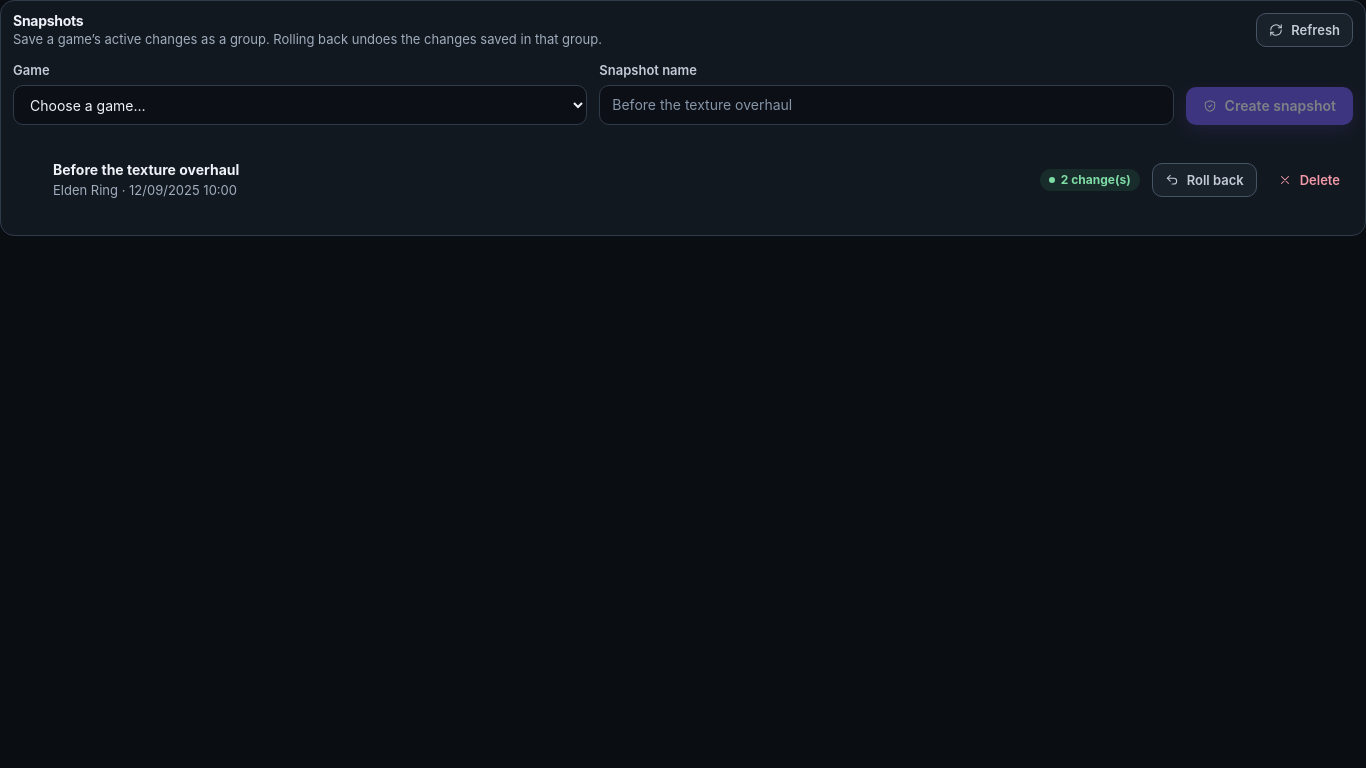
Scenario: SnapshotPanel — rolling back › rolls back and asks for the transaction list to be reloaded only once confirmed
Click the button "Roll back" at (1204, 180), box top-left (1152, 163), bottom-right (1257, 197)
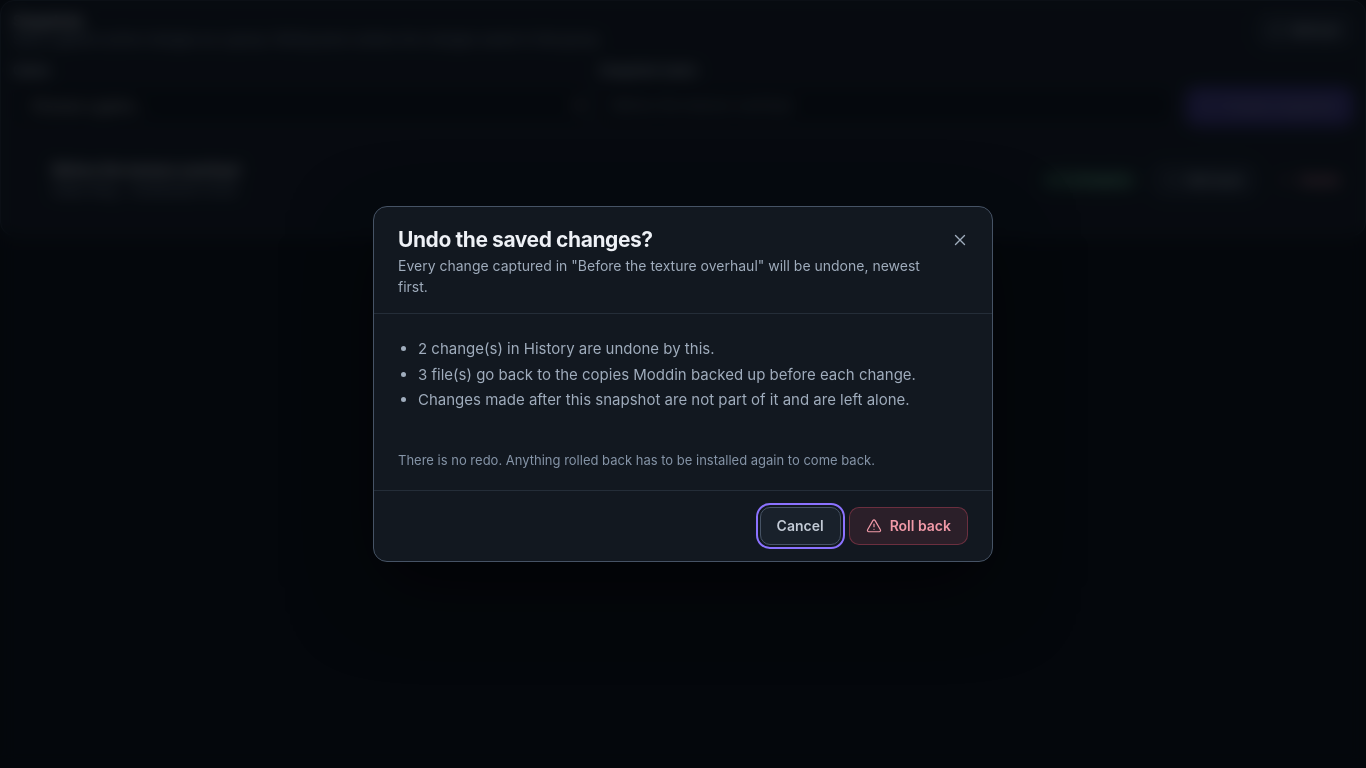
Click the button with class "btn-danger-solid" at (908, 526), box top-left (849, 507), bottom-right (968, 545)
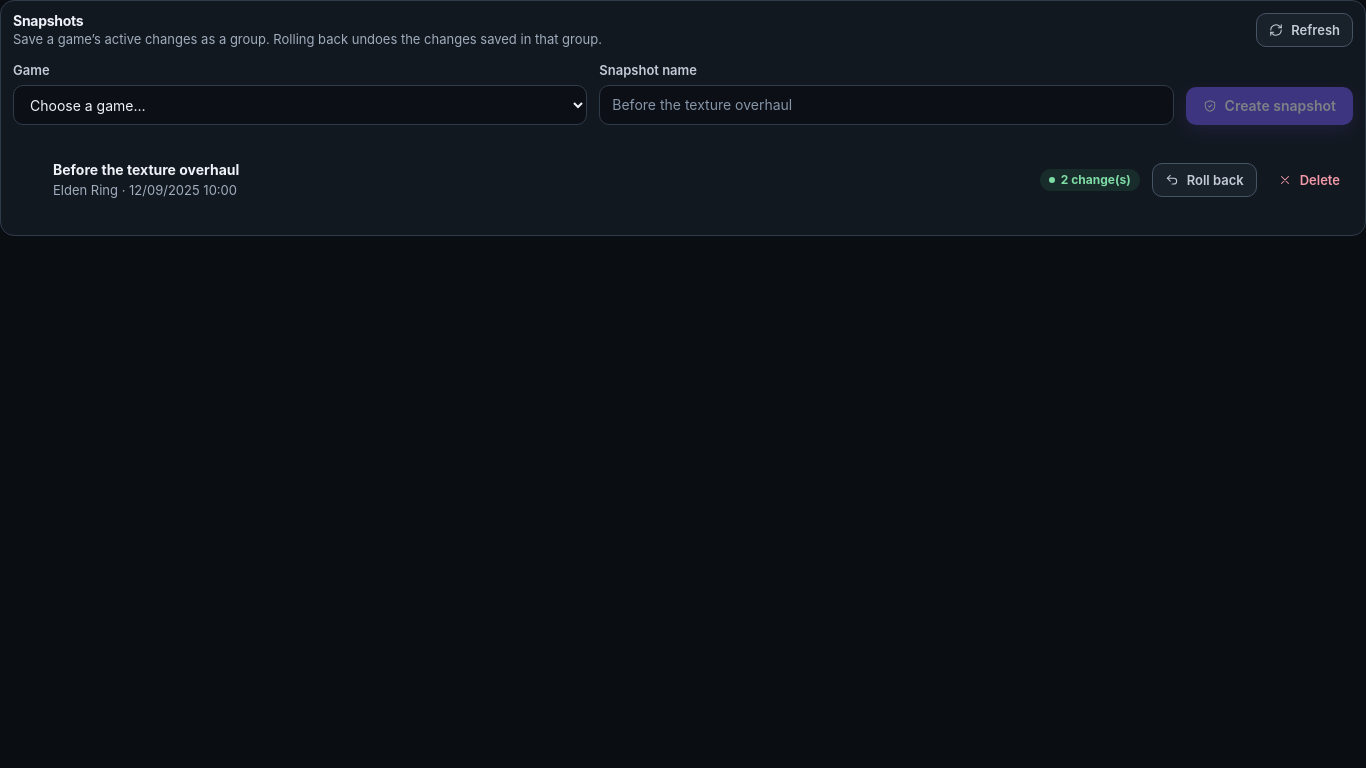
expect the dialog is gone: met
